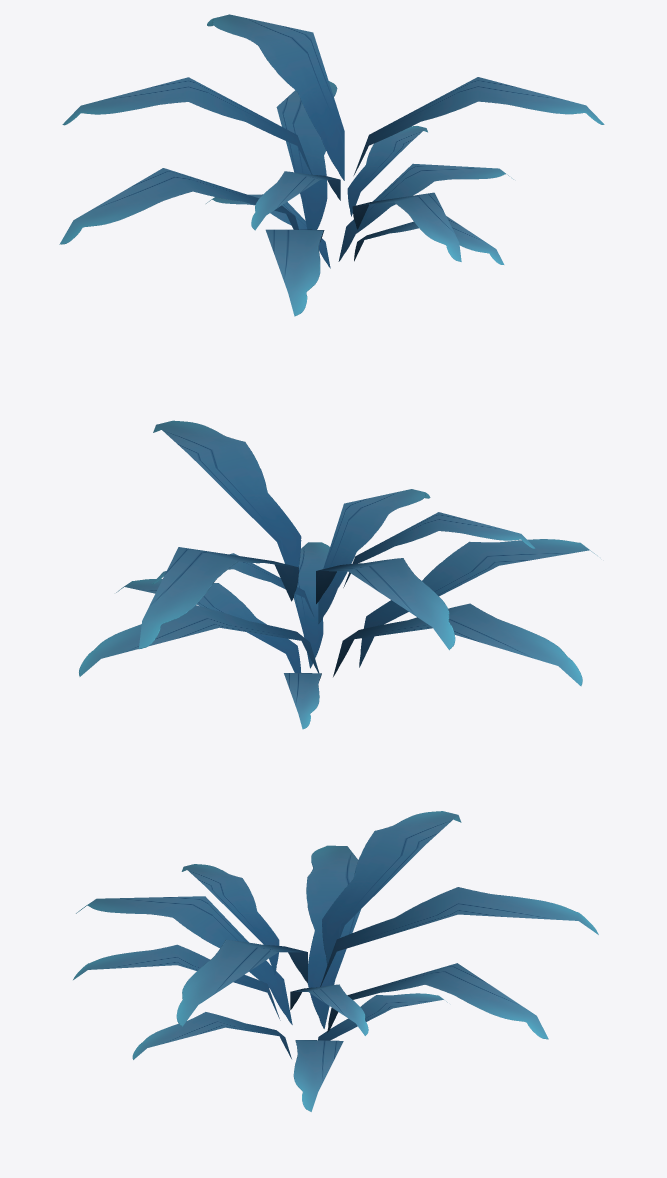
The model's file is fern.fbx.
3 renders of one model, top to bottom at view 1: azimuth 30°, elevation 25°; view 2: azimuth 150°, elevation 25°; view 3: azimuth 270°, elevation 25°, orthographic. The views are drawn at different scales.
Visible parts, largest first — view 1: Fern; view 2: Fern; view 3: Fern.
Part boxes in pixels (x1=…): Fern: x1=59, y1=14, x2=604, y2=316; Fern: x1=79, y1=420, x2=597, y2=729; Fern: x1=73, y1=811, x2=598, y2=1111.
Bounding box in the file's own units: 135 × 49.67 × 134.
